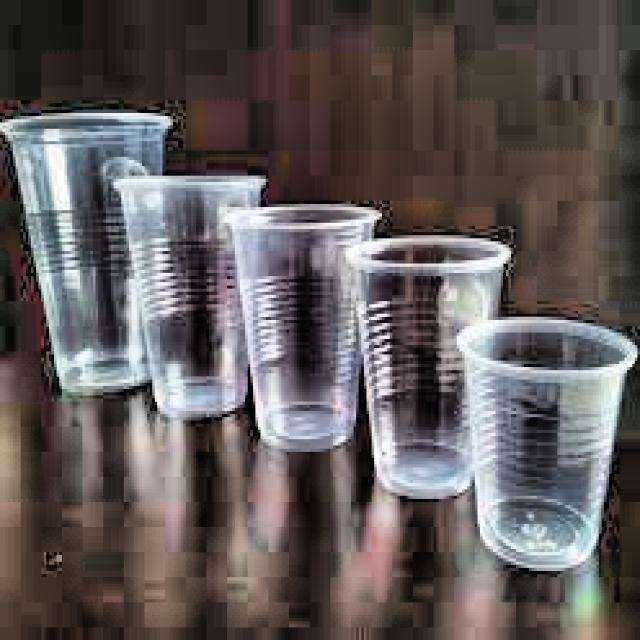plastic cup: (3, 106, 174, 397), (456, 318, 634, 570), (346, 230, 504, 502), (224, 204, 374, 451), (111, 170, 256, 415)
